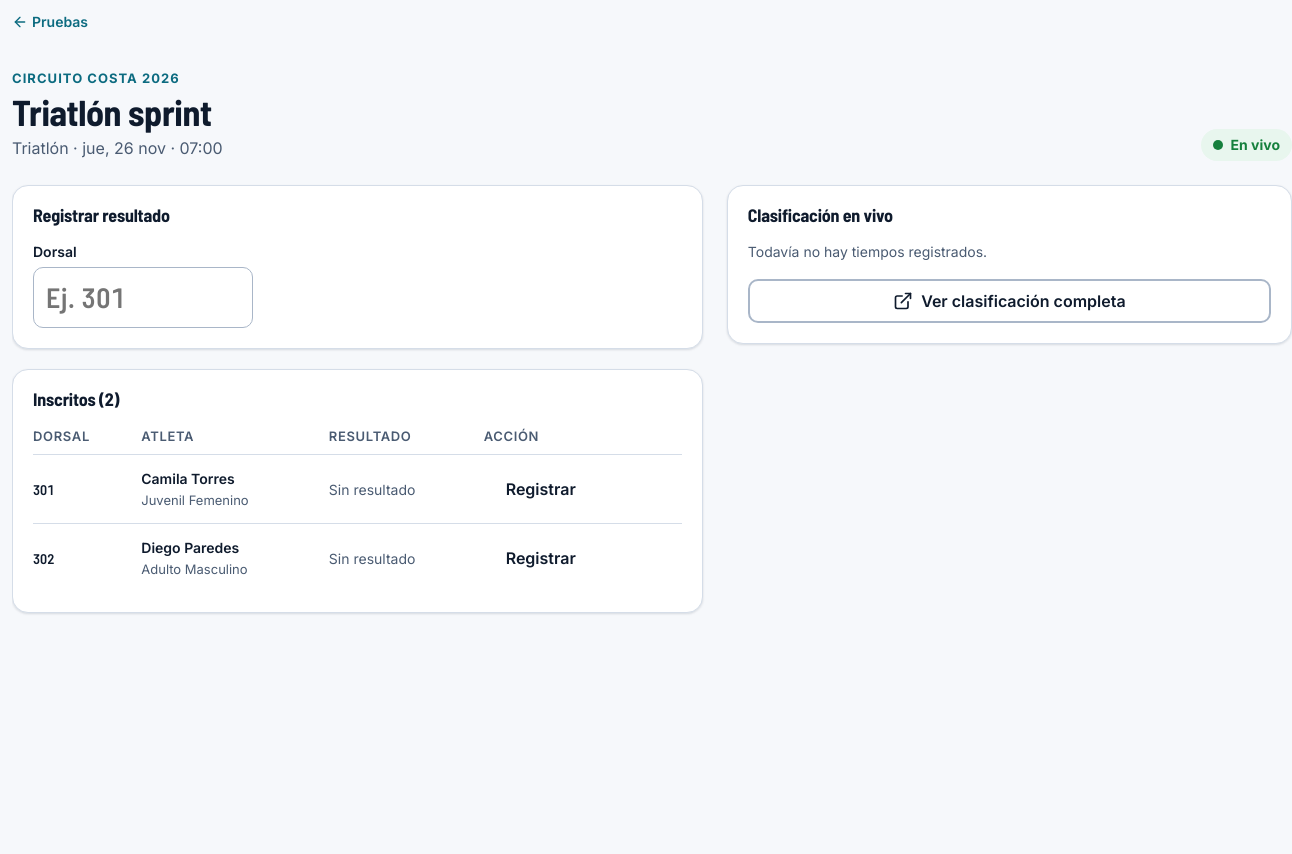
Test: RegistroTiemposPage › con la sesión vencida (401) el tiempo queda guardado en el dispositivo
Expected: the heading "Triatlón sprint" is shown, [12,92,223,132]
Type "301" into the field labelled "Dorsal" at [143, 298], box [33,267,253,328]
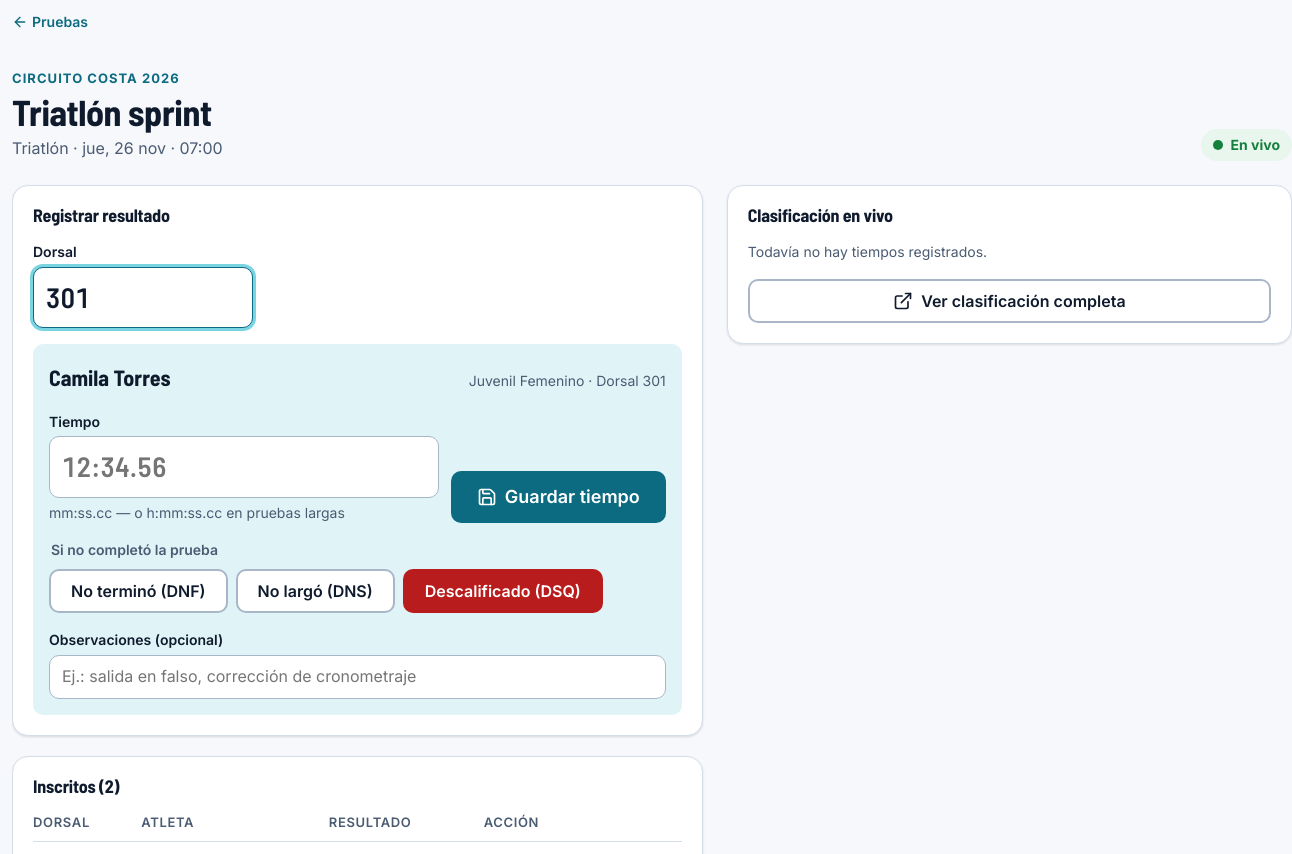
Click the button "No largó (DNS)" at [315, 591], box [236,569,395,613]
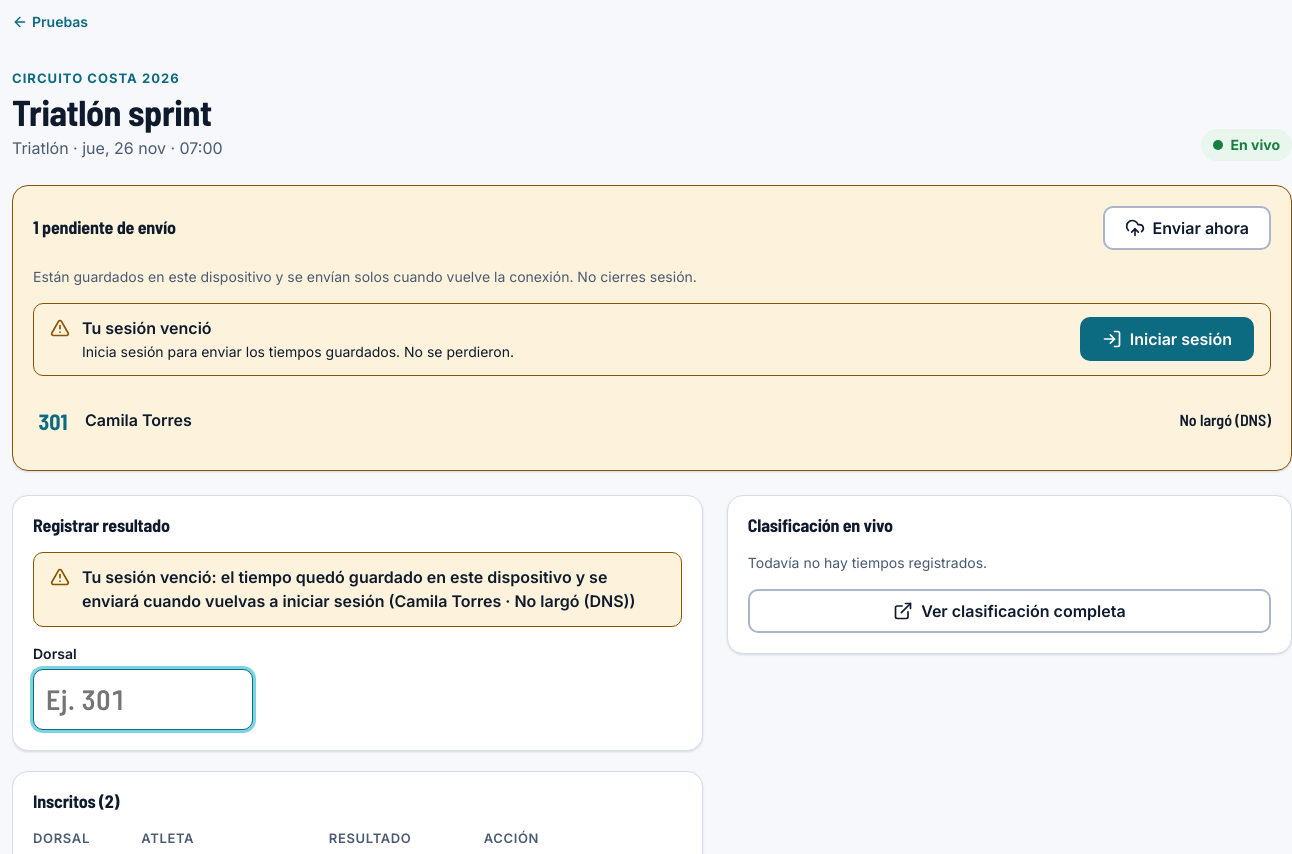
Now the text "se enviará cuando vuelvas a iniciar sesión" is shown, box [82,567,636,611]
Now the heading "1 pendiente de envío" is shown, box [33,218,176,237]
